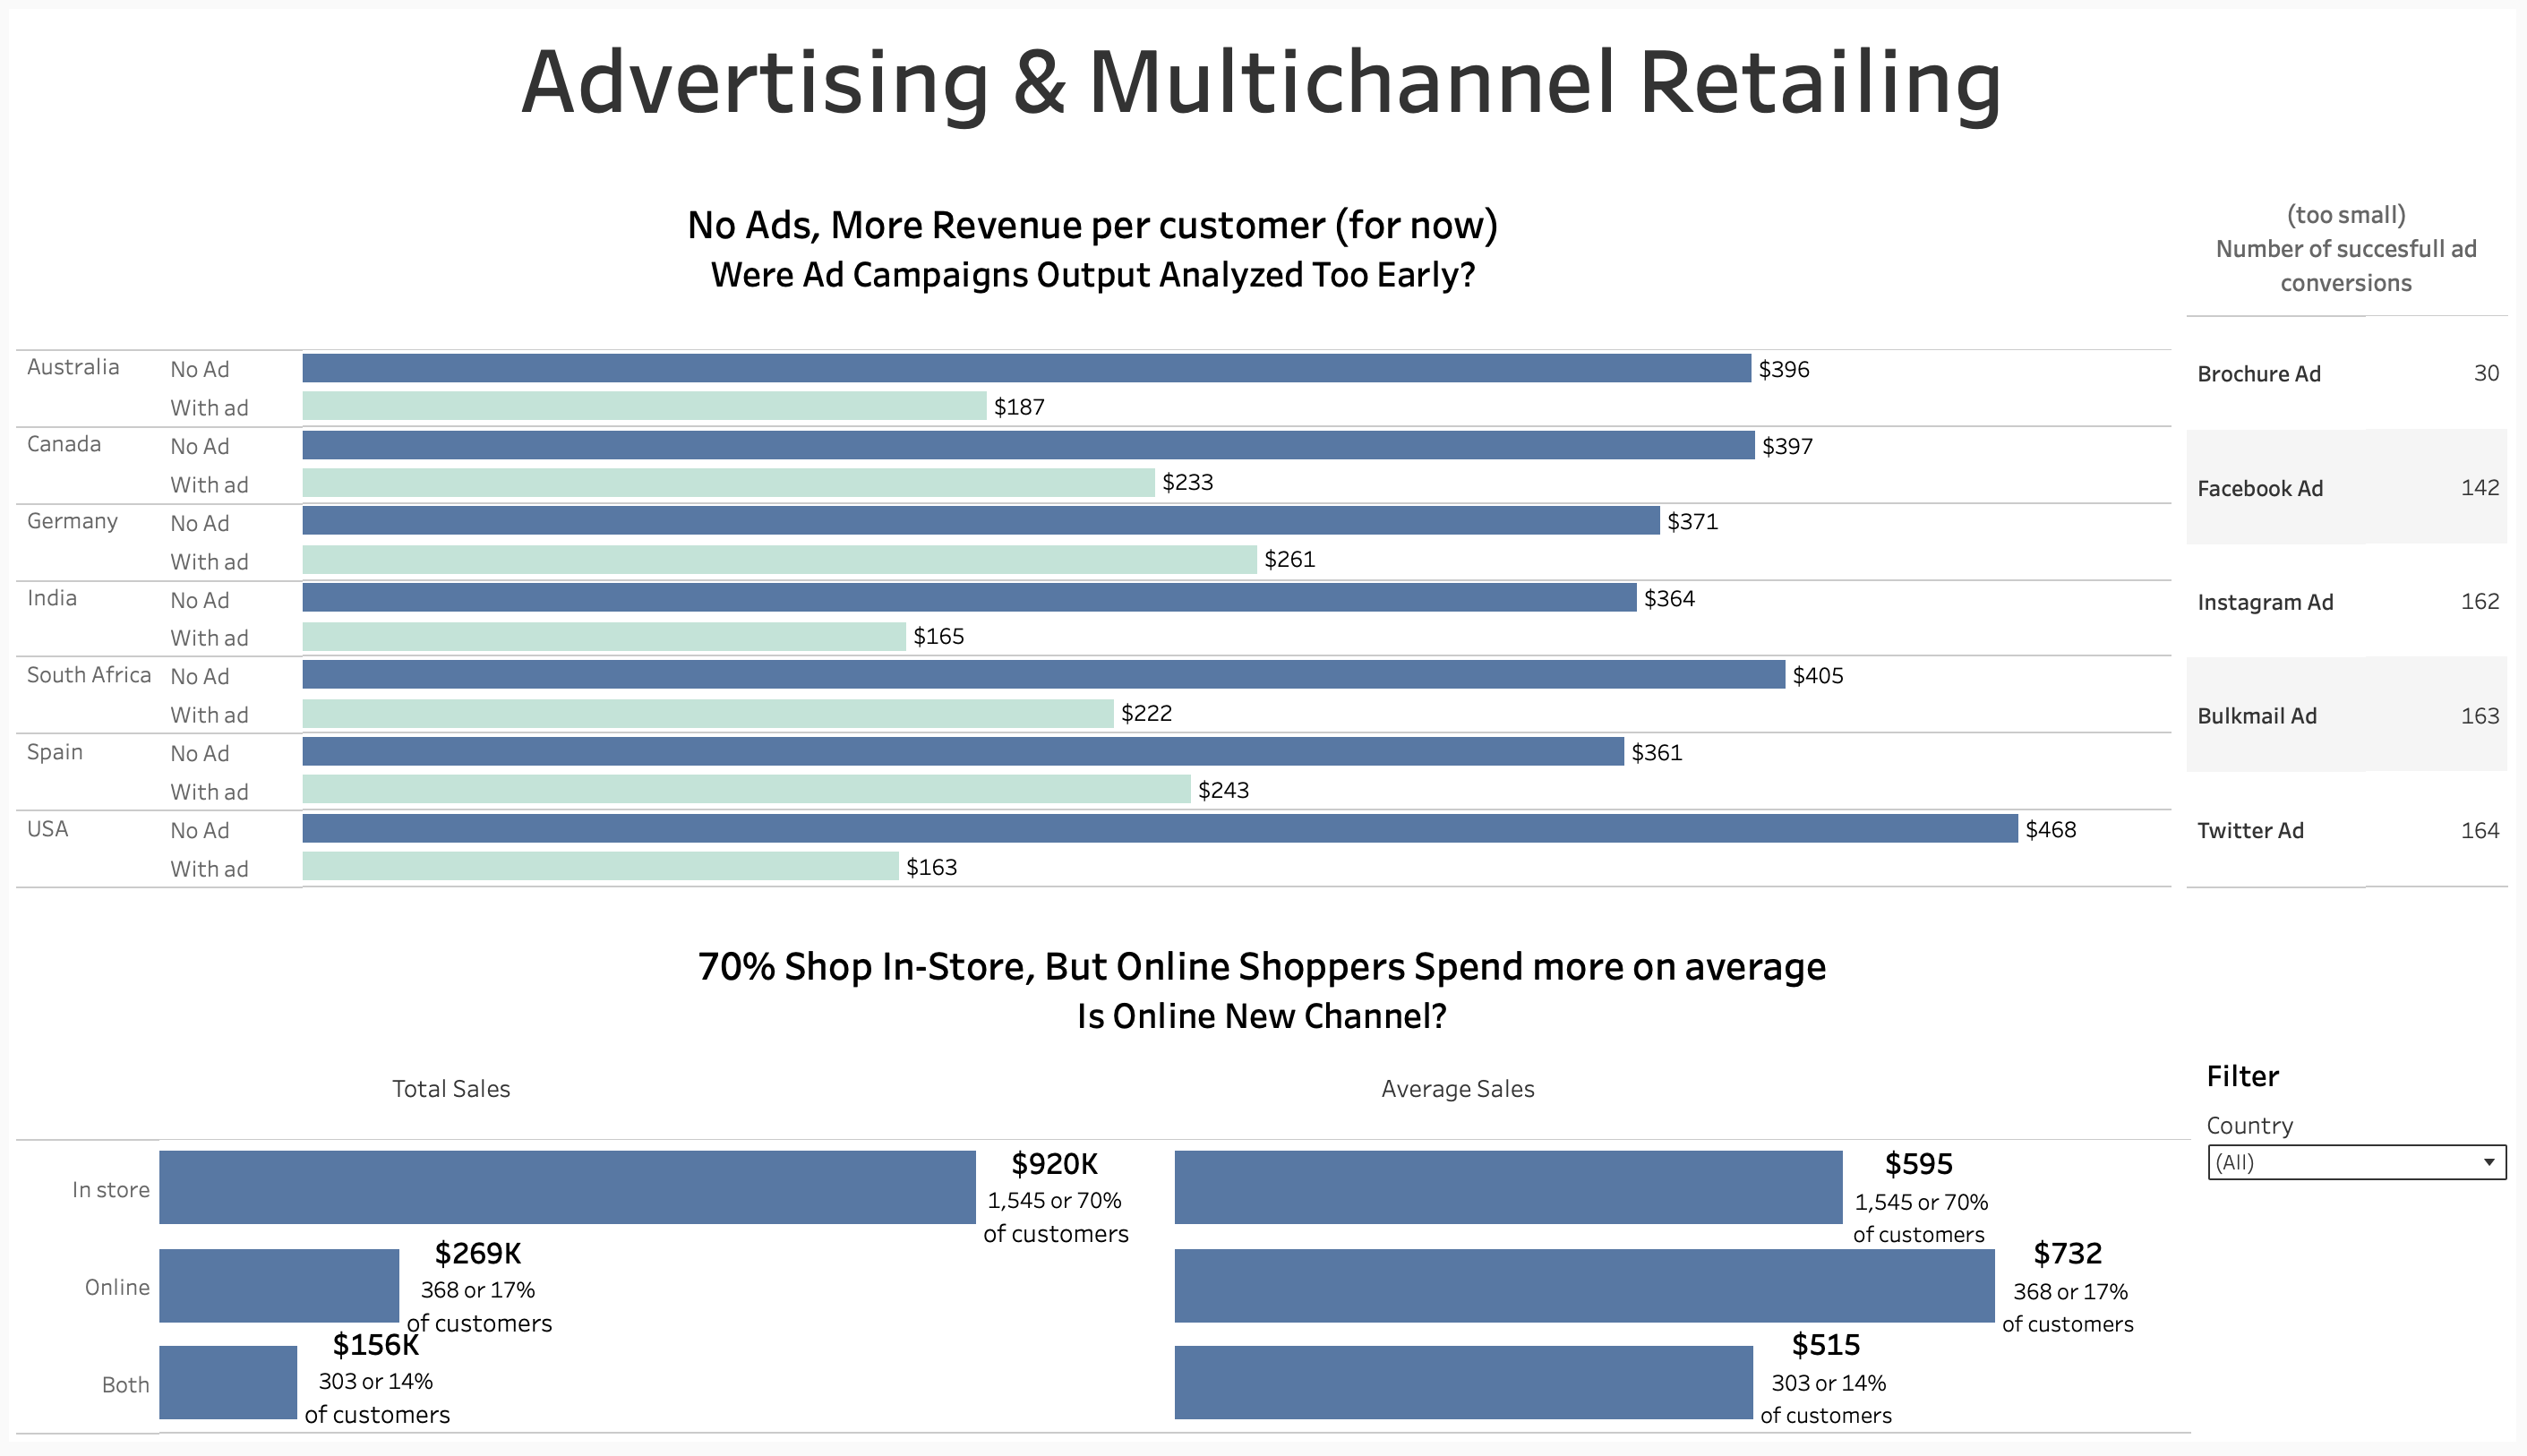

The dashboard page shown, as its layout file describes it:
{"tool":"tableau","page":{"name":"Advertising ","canvas":[1400,800],"ordinal":0},"visuals":[{"type":"text","box":[0,0,1400,74]},{"type":"blank","box":[0,74,1400,20]},{"type":"worksheet","title":"ad_effectivenes","mark":"Automatic","rows":["country"],"box":[0,94,1212,400]},{"type":"worksheet","title":"ad_number","mark":"Automatic","box":[1212,94,188,400]},{"type":"blank","box":[0,494,1400,20]},{"type":"text","box":[0,514,1400,63]},{"type":"worksheet","title":"Web/Instore/mixed","mark":"Automatic","rows":["Calculation_4279052988508106753"],"cols":["Calculation_3009882315228643331","Calculation_3009882315228643331"],"box":[0,577,1223,223]},{"type":"text","box":[1223,577,177,30]},{"type":"filter","title":"Web/Instore/mixed","param":"[federated.0i2m06z1eelqc212w9e2c13m77is].[none:country:nk]","box":[1223,607,177,53]}]}

Visuals, with their boxes in screenshot pixels (x1, y1, x2, y2), scaled from the page's 1400x800 canvas onto the 2527x1456 screenshot:
text: BBox(0, 0, 2526, 134)
blank: BBox(0, 134, 2526, 171)
"ad_effectivenes" worksheet: BBox(0, 171, 2188, 899)
"ad_number" worksheet: BBox(2188, 171, 2526, 899)
blank: BBox(0, 899, 2526, 936)
text: BBox(0, 936, 2526, 1050)
"Web/Instore/mixed" worksheet: BBox(0, 1050, 2207, 1455)
text: BBox(2207, 1050, 2526, 1105)
"Web/Instore/mixed" filter: BBox(2207, 1105, 2526, 1201)
